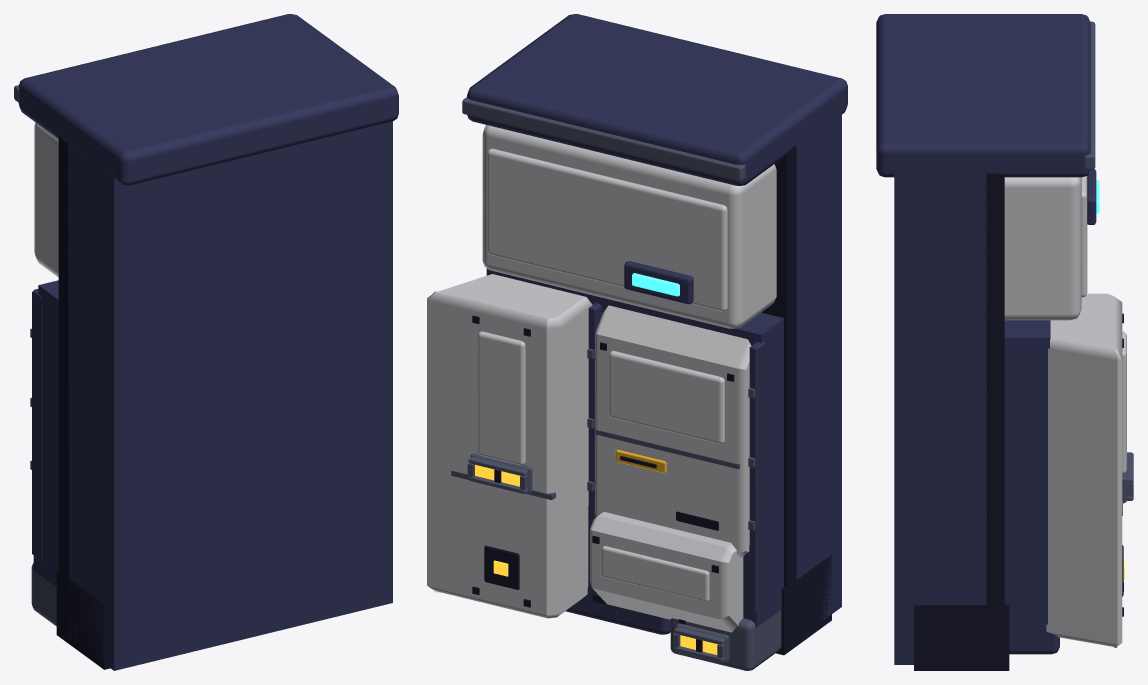
The model's file is hull.bay.plate_large.canopy_sill.none.plate.w1.414.s4.k-1.25.t-0.95_0.42_1.3_1.85_0.7071.glb.
3 views of the same model, side by side, from view 1: azimuth 30°, elevation 25°; view 2: azimuth 150°, elevation 25°; view 3: azimuth 270°, elevation 25° (orthographic).
Parts seen in each view (by area): view 1: hull.bay.plate_large.canopy_sill.none.plate.w1.414.s4.k-1.25; view 2: hull.bay.plate_large.canopy_sill.none.plate.w1.414.s4.k-1.25; view 3: hull.bay.plate_large.canopy_sill.none.plate.w1.414.s4.k-1.25.
Boxes of the visible parts, x1,y1,x2,y2 form: hull.bay.plate_large.canopy_sill.none.plate.w1.414.s4.k-1.25: (14, 14, 398, 670); hull.bay.plate_large.canopy_sill.none.plate.w1.414.s4.k-1.25: (427, 14, 847, 670); hull.bay.plate_large.canopy_sill.none.plate.w1.414.s4.k-1.25: (876, 14, 1133, 670).
Size of the model in its own units: 1.53 by 2.56 by 1.14.
